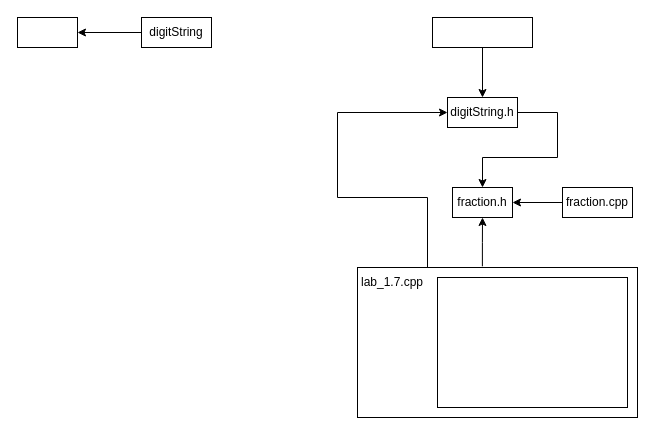
This 655x435 diagram has some shape labels left out. The box of each missing label's shape, as (x1, y1, x2, y2) in pixels:
digitString.cpp: (432, 16, 532, 48)
fraction: (16, 16, 78, 48)
